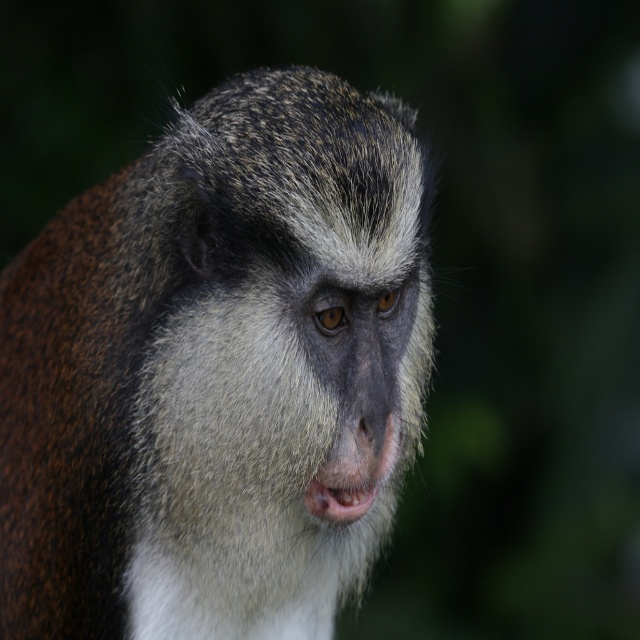Monkey: (0, 53, 484, 640)
